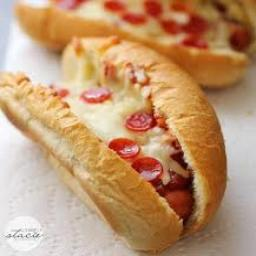hotdog: (0, 35, 229, 252)
